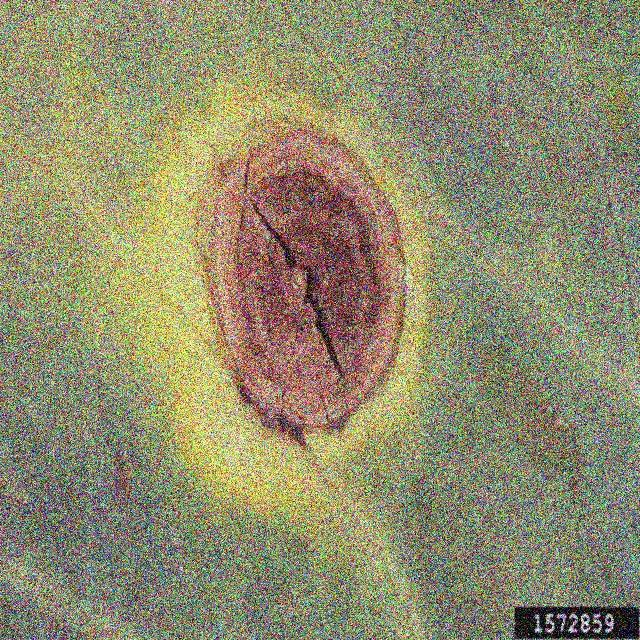leaf_spot: (16, 7, 632, 603)
